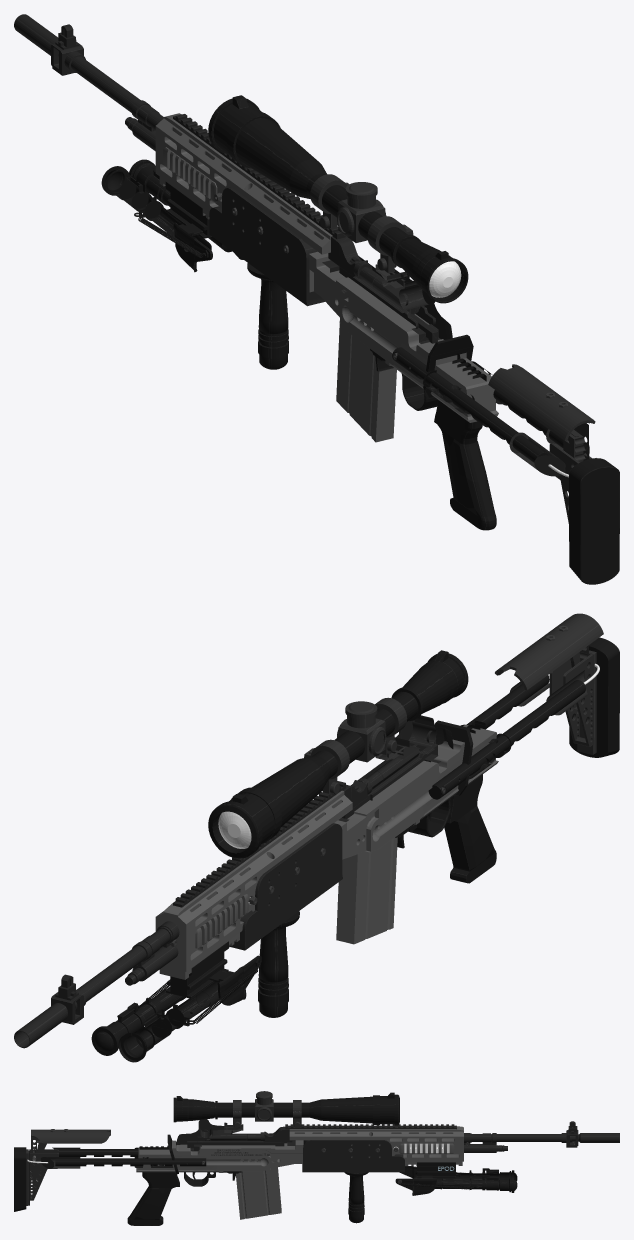
3 renders of one model, top to bottom at view 1: azimuth 30°, elevation 25°; view 2: azimuth 150°, elevation 25°; view 3: azimuth 270°, elevation 25°, orthographic. The views are drawn at different scales.
Visible parts, largest first — view 1: Cube_1, Cylinder_2, Cube.002_4, Cylinder.013_35, Cube.004_7, Cube.006_10, Cube.015_27, Cylinder.014_38, Cylinder.001_9, Cylinder.012_33, Vert_6, Cylinder.015_57 (+11 smaller); view 2: Cube_1, Cylinder_2, Cube.002_4, Cube.004_7, Cube.015_27, Cube.006_10, Cylinder.014_38, Cylinder.001_9, Cylinder.013_35, Cylinder.012_33, Vert_6, Cylinder.015_57 (+16 smaller); view 3: Cube_1, Cylinder_2, Cube.002_4, Cube.004_7, Cube.015_27, Cube.006_10, Cylinder.001_9, Cylinder.004_25, Cylinder.014_38, Cylinder.002_52, Cube.017_36, Cylinder.013_35 (+17 smaller).
Part boxes in pixels (left/top/right/bottom): Cube_1: left=155, top=113, right=498, bottom=422; Cylinder_2: left=208, top=95, right=468, bottom=303; Cube.002_4: left=209, top=187, right=325, bottom=306; Cylinder.013_35: left=569, top=458, right=619, bottom=584; Cube.004_7: left=336, top=318, right=396, bottom=442; Cube.006_10: left=434, top=400, right=496, bottom=530; Cube.015_27: left=322, top=236, right=452, bottom=343; Cylinder.014_38: left=488, top=364, right=595, bottom=440; Cylinder.001_9: left=14, top=14, right=163, bottom=131; Cylinder.012_33: left=392, top=347, right=548, bottom=462; Vert_6: left=247, top=263, right=288, bottom=369; Cylinder.015_57: left=101, top=166, right=211, bottom=251; Cube_1: left=155, top=724, right=498, bottom=979; Cylinder_2: left=208, top=650, right=468, bottom=858; Cube.002_4: left=229, top=823, right=342, bottom=950; Cube.004_7: left=336, top=837, right=397, bottom=944; Cube.015_27: left=338, top=715, right=453, bottom=821; Cube.006_10: left=444, top=774, right=496, bottom=883; Cylinder.014_38: left=495, top=613, right=603, bottom=690; Cylinder.001_9: left=14, top=921, right=179, bottom=1048; Cylinder.013_35: left=569, top=637, right=619, bottom=757; Cylinder.012_33: left=428, top=680, right=585, bottom=799; Vert_6: left=258, top=911, right=299, bottom=1017; Cylinder.015_57: left=118, top=979, right=244, bottom=1062; Cube_1: left=136, top=1126, right=463, bottom=1172; Cylinder_2: left=173, top=1092, right=399, bottom=1125; Cube.002_4: left=302, top=1140, right=404, bottom=1172; Cube.004_7: left=236, top=1167, right=281, bottom=1219; Cube.015_27: left=176, top=1119, right=295, bottom=1151; Cube.006_10: left=127, top=1172, right=179, bottom=1225; Cylinder.001_9: left=464, top=1133, right=619, bottom=1144; Cylinder.004_25: left=55, top=1158, right=206, bottom=1166; Cylinder.014_38: left=31, top=1129, right=110, bottom=1143; Cylinder.002_52: left=416, top=1175, right=517, bottom=1192; Cube.017_36: left=26, top=1149, right=58, bottom=1205; Cylinder.013_35: left=14, top=1147, right=26, bottom=1211.
Bounding box in the file's own units: 0.2859 × 1.1 × 4.64.
Materials: 9 (9 with a texture image).
